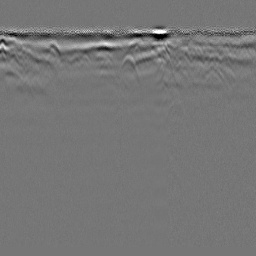cavity: (117, 53, 140, 83)
